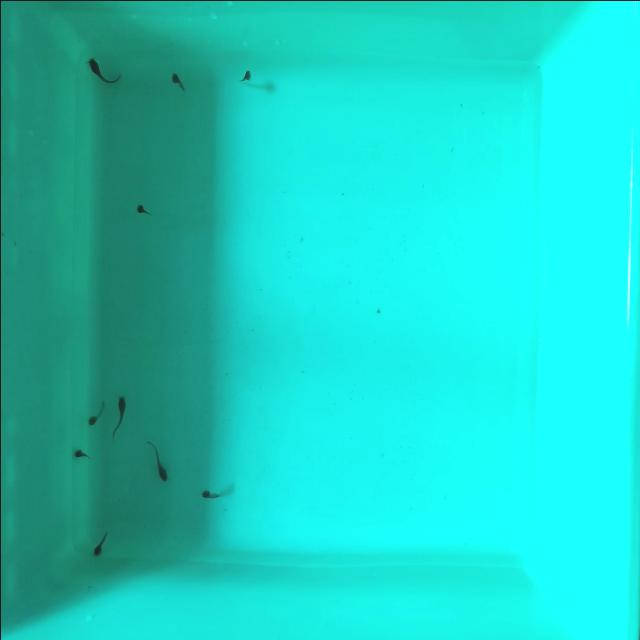lele: (141, 433, 172, 484), (84, 53, 122, 90), (108, 387, 127, 438), (81, 396, 108, 427), (91, 526, 112, 558), (167, 67, 189, 96), (131, 198, 156, 220), (69, 445, 93, 463), (234, 66, 254, 87), (198, 485, 222, 501)
